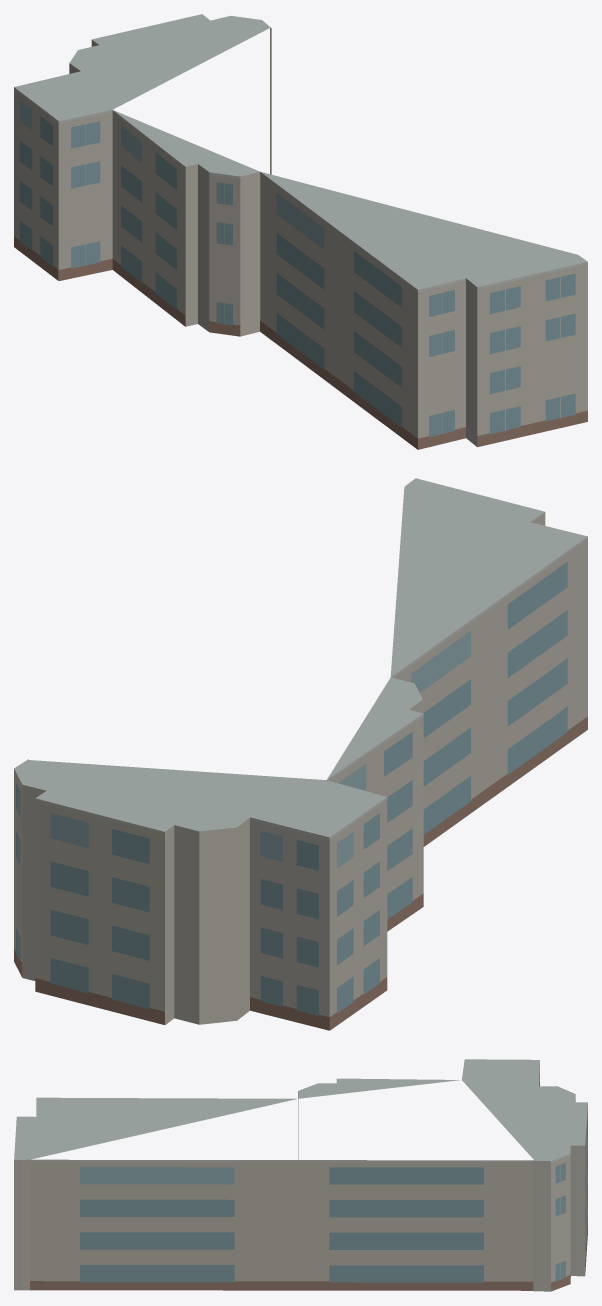
The model's file is survey-upis-32969984.glb.
3 views of the same model, one above another, from view 1: azimuth 30°, elevation 25°; view 2: azimuth 150°, elevation 25°; view 3: azimuth 270°, elevation 25° (orthographic). The views are drawn at different scales.
Visible parts, largest first — view 1: survey-upis-32969984.tmp; view 2: survey-upis-32969984.tmp; view 3: survey-upis-32969984.tmp.
Boxes of the visible parts, x1=… form: survey-upis-32969984.tmp: x1=14, y1=14, x2=587, y2=449; survey-upis-32969984.tmp: x1=14, y1=478, x2=587, y2=1030; survey-upis-32969984.tmp: x1=14, y1=1059, x2=587, y2=1291.
Size of the model in its own units: 29.15 by 17.4 by 69.38.
